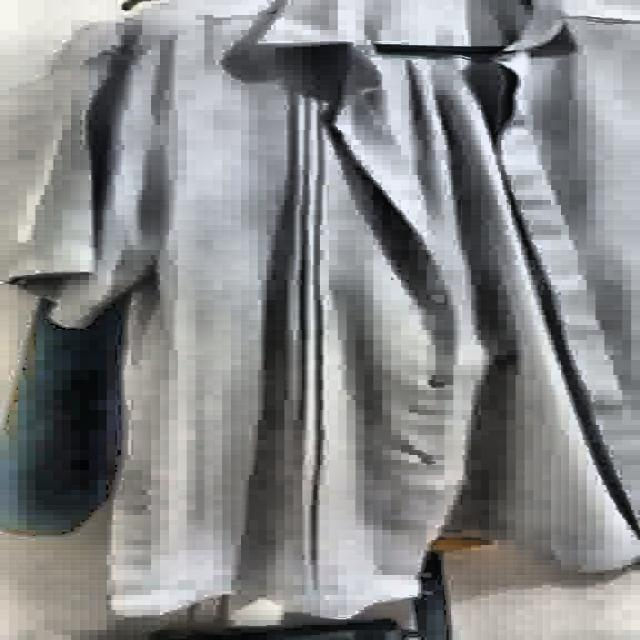clothes: (2, 0, 640, 616)
